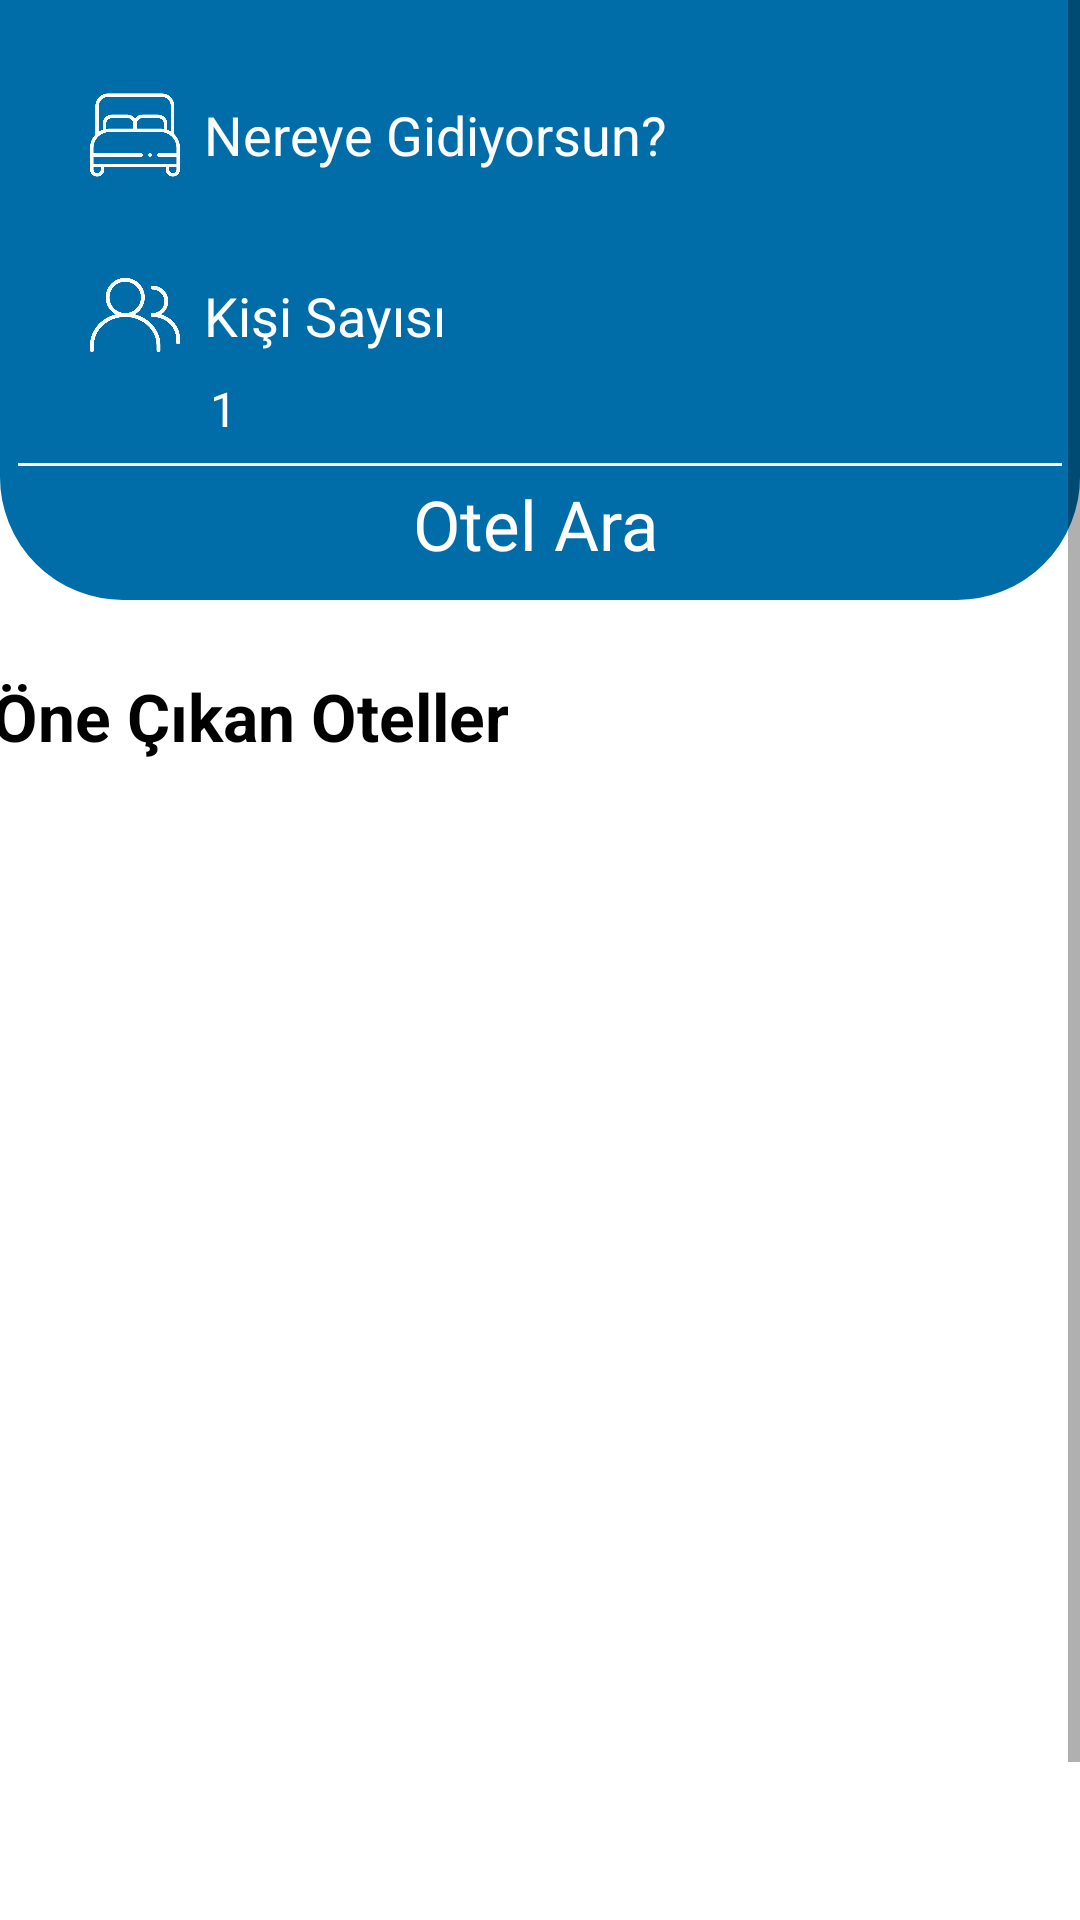

Screen size 1080*1920. Icon name, then its center in pixels as [x,y]:
bed: [135,135]
users: [135,315]
